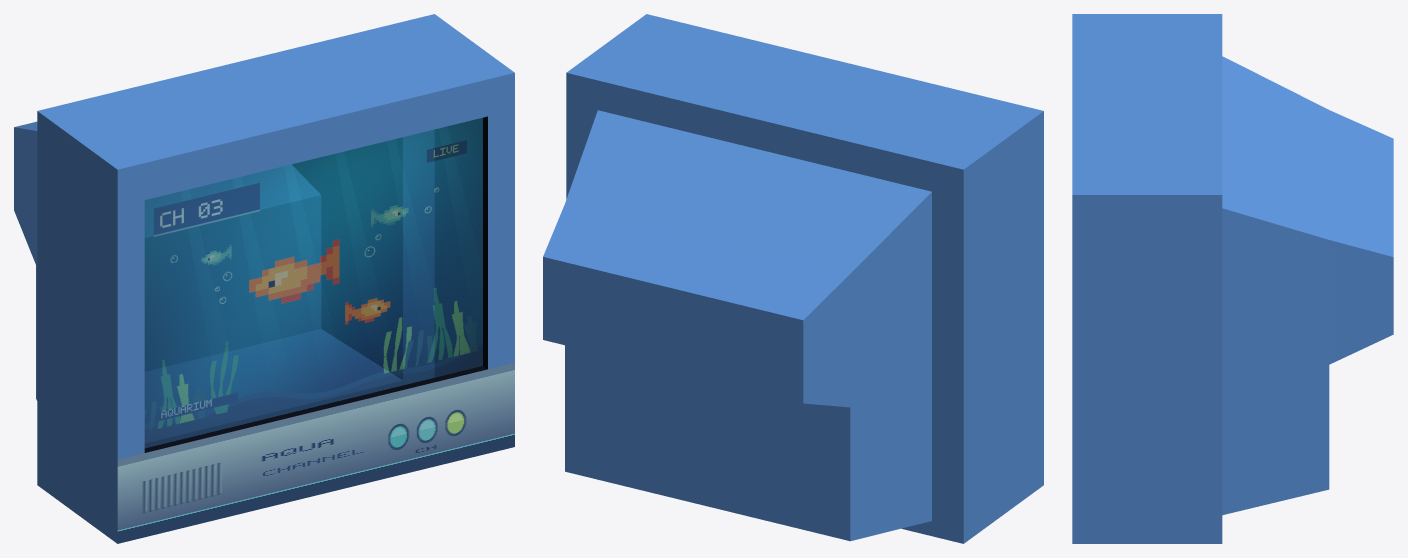
Rendered from aqua-channel-tv.obj.
The picture shows the model from 3 angles, left to right: view 1: azimuth 30°, elevation 25°; view 2: azimuth 150°, elevation 25°; view 3: azimuth 270°, elevation 25°; orthographic projection. The views are drawn at different scales.
Visible parts, largest first — view 1: tvcrt_m_tvcrt_0; view 2: tvcrt_m_tvcrt_0; view 3: tvcrt_m_tvcrt_0.
Boxes of the visible parts, bbox=[...] form: tvcrt_m_tvcrt_0: bbox=[14, 14, 514, 543]; tvcrt_m_tvcrt_0: bbox=[543, 14, 1043, 543]; tvcrt_m_tvcrt_0: bbox=[1072, 14, 1393, 543].
Bounding box in the file's own units: 0.6 × 0.54 × 0.45.
Materials: 4 (2 with a texture image).
